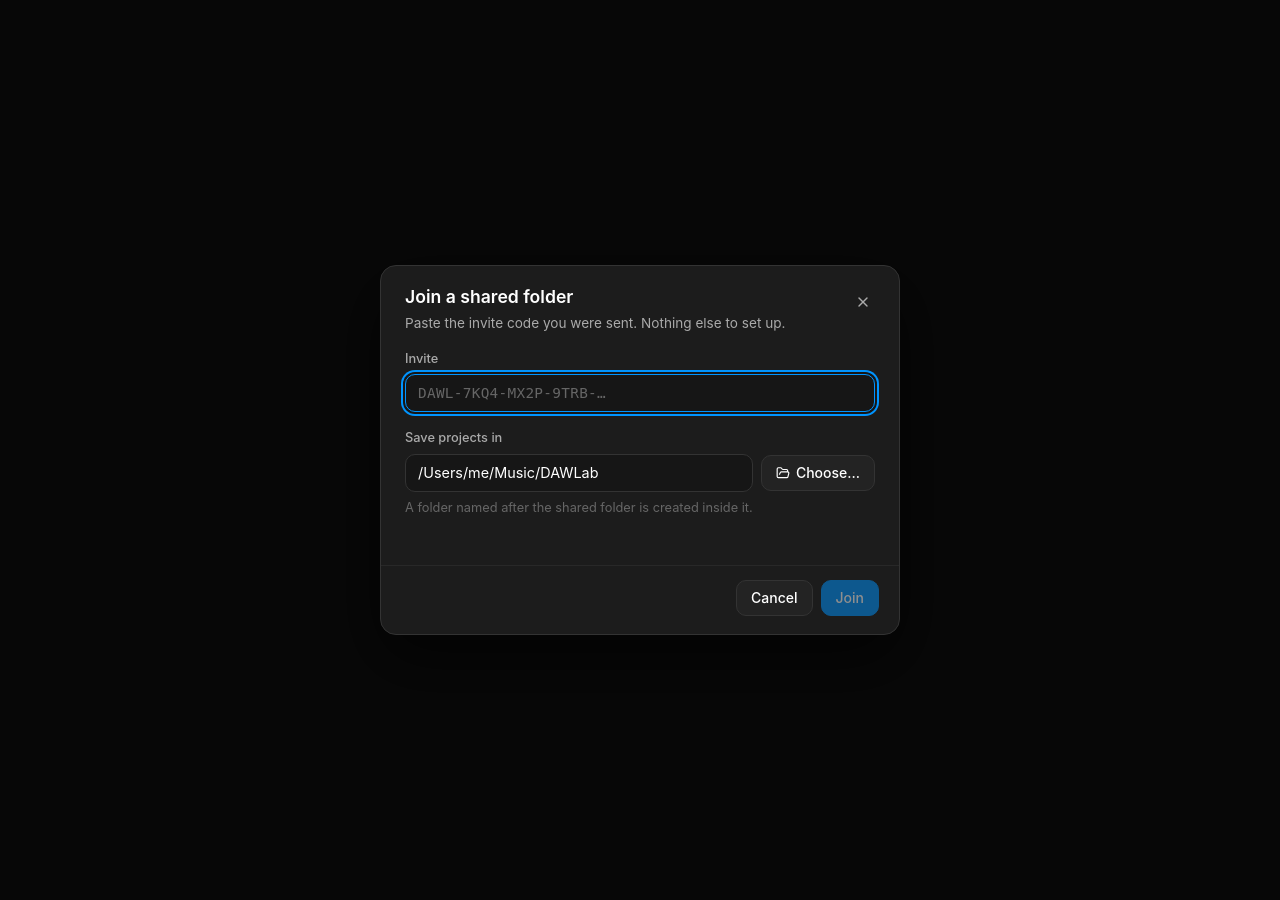
Scenario: JoinFolderDialog › shows why an invite is not valid and keeps Join disabled
Type "DAWL-7KQ4-MX2P-9TRB" into the field labelled "Invite" at (640, 393), box 405,374 -> 875,412
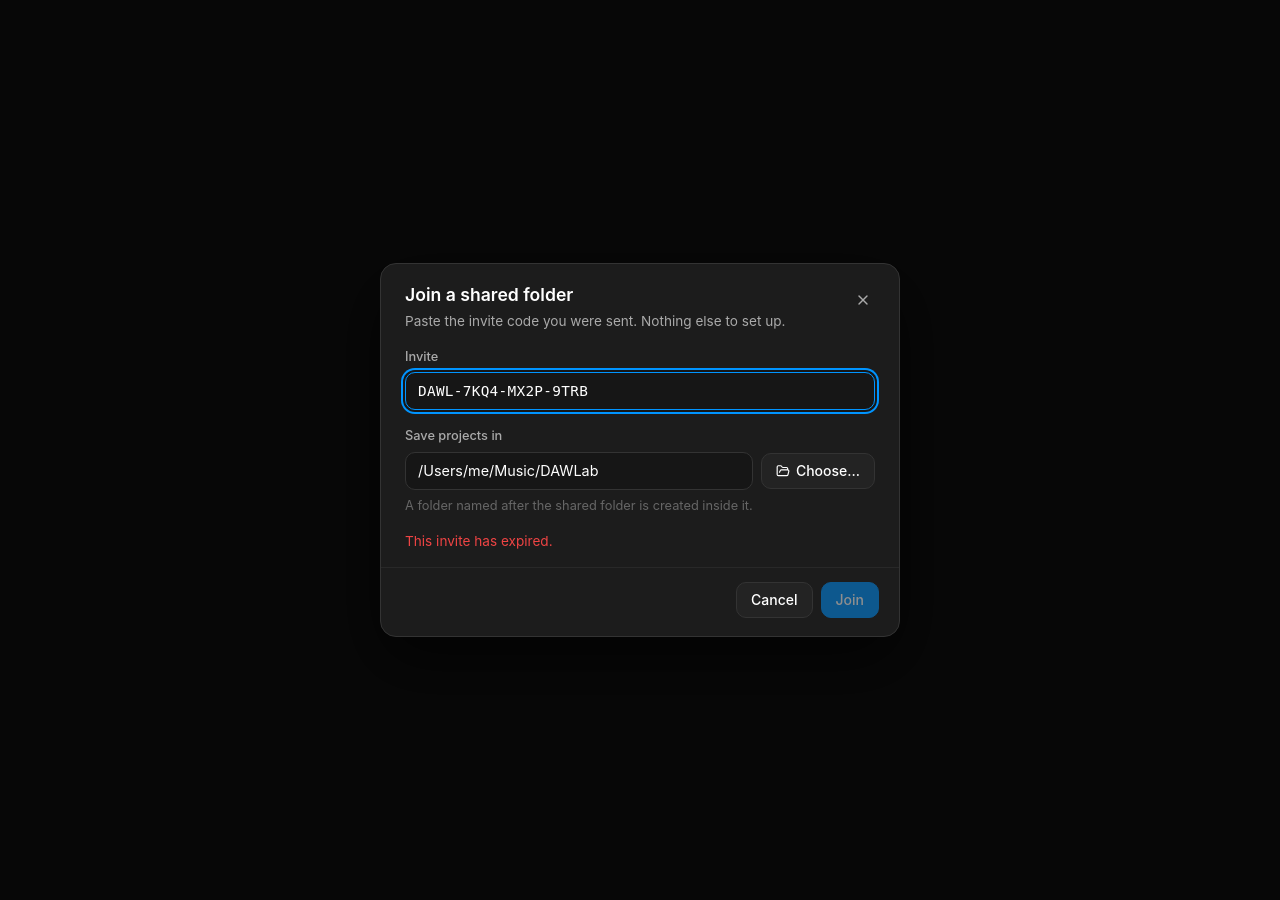
Expected: the button "Join" is disabled, 820,582 -> 879,618
Expected: the message reads "This invite has expired.", 405,533 -> 553,549
